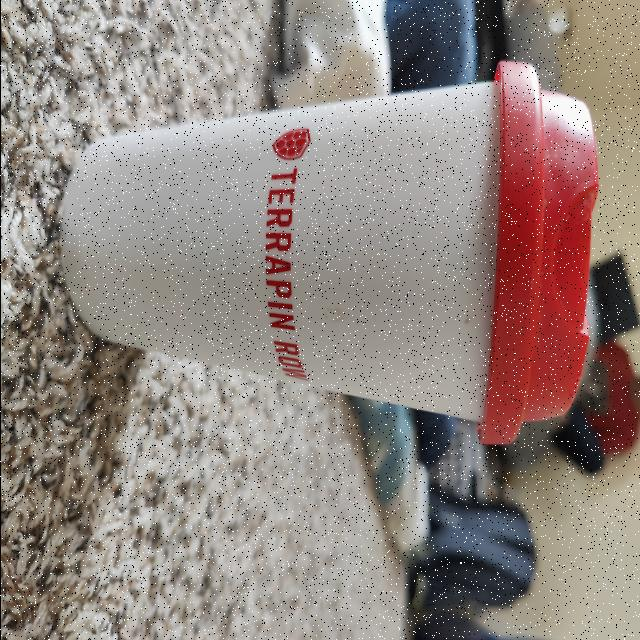mug: (62, 56, 600, 448)
